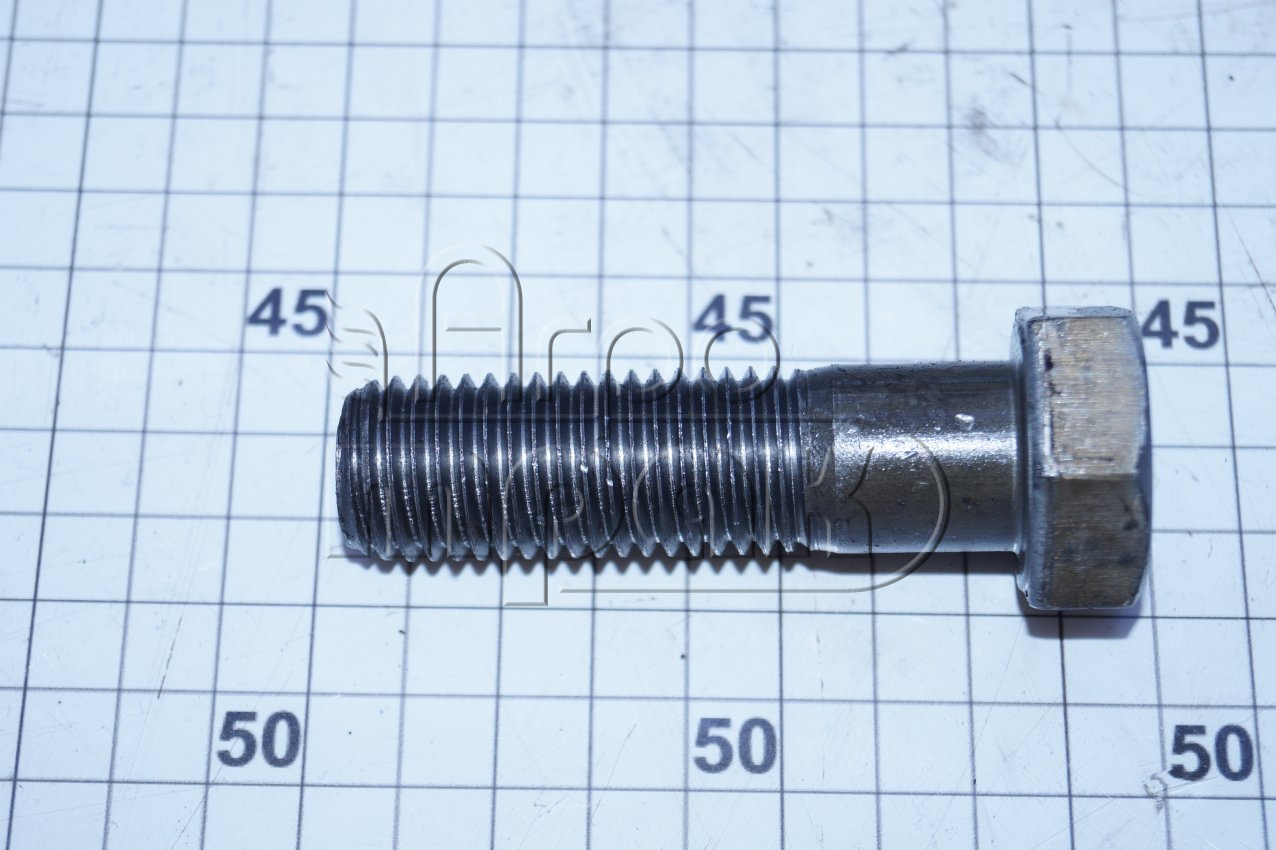screw: (334, 309, 1155, 618)
